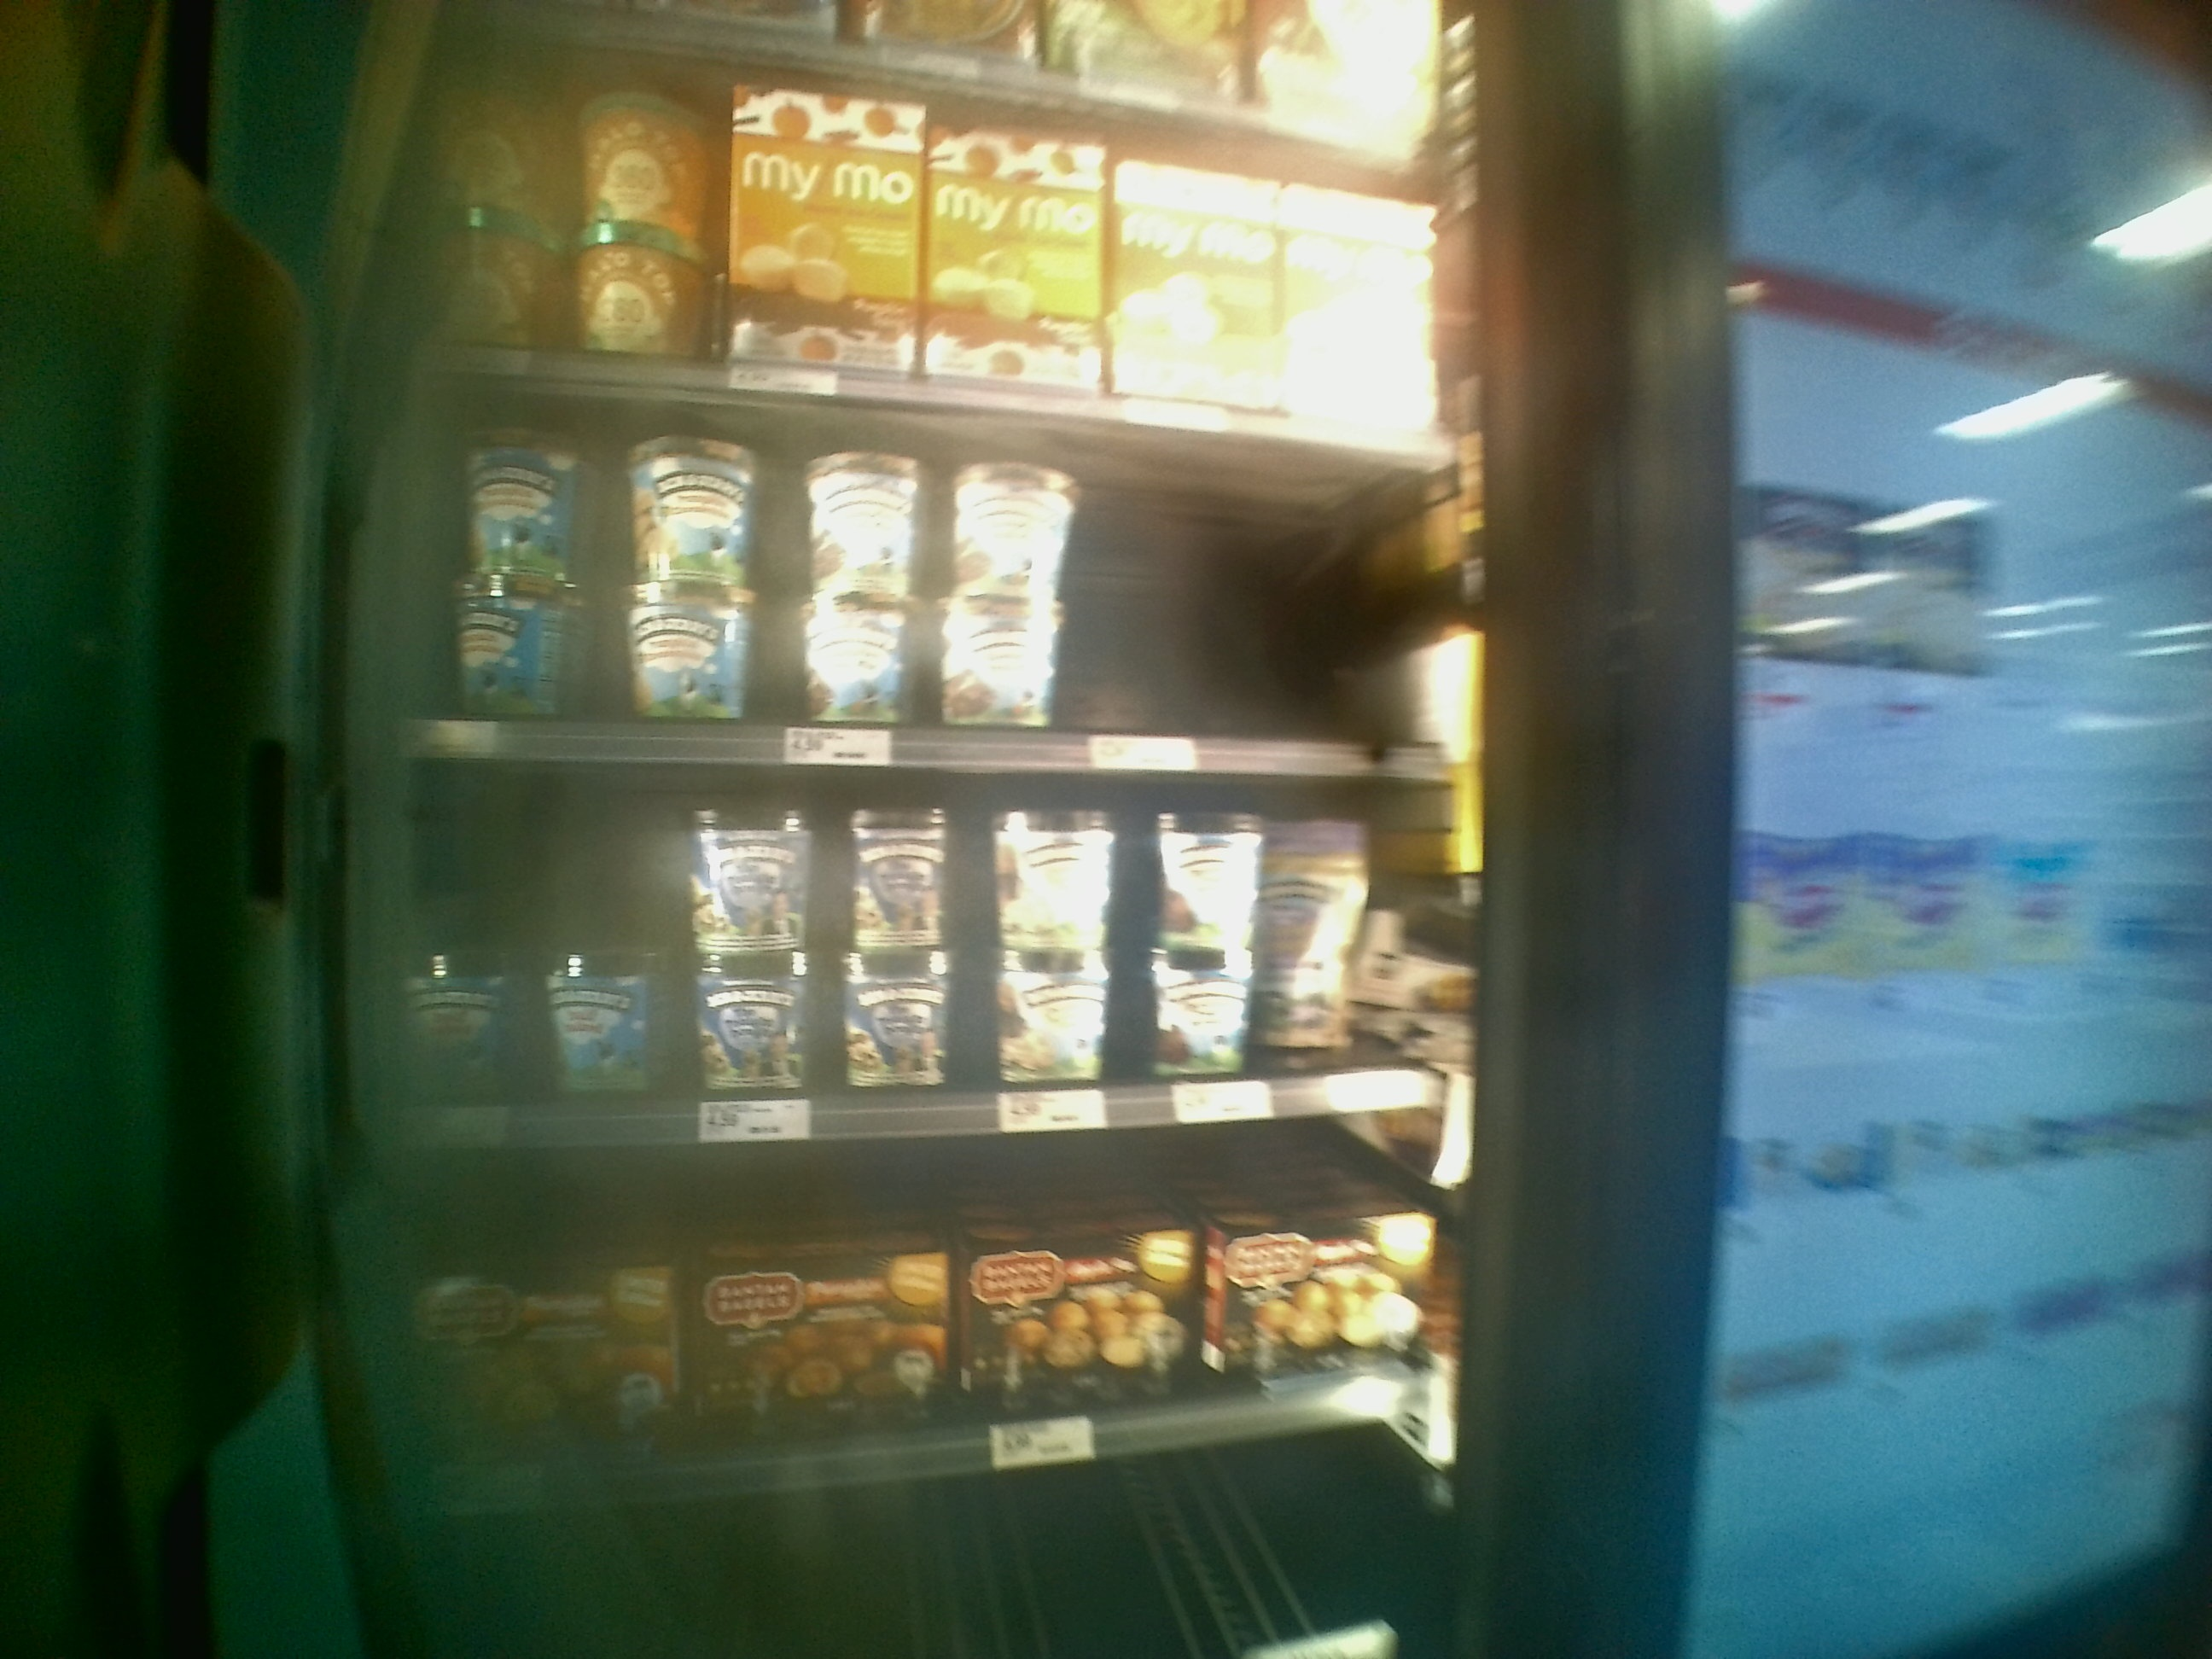shelf: (381, 23, 1484, 460), (361, 429, 1507, 802), (338, 781, 1470, 1127), (376, 1145, 1446, 1497)
